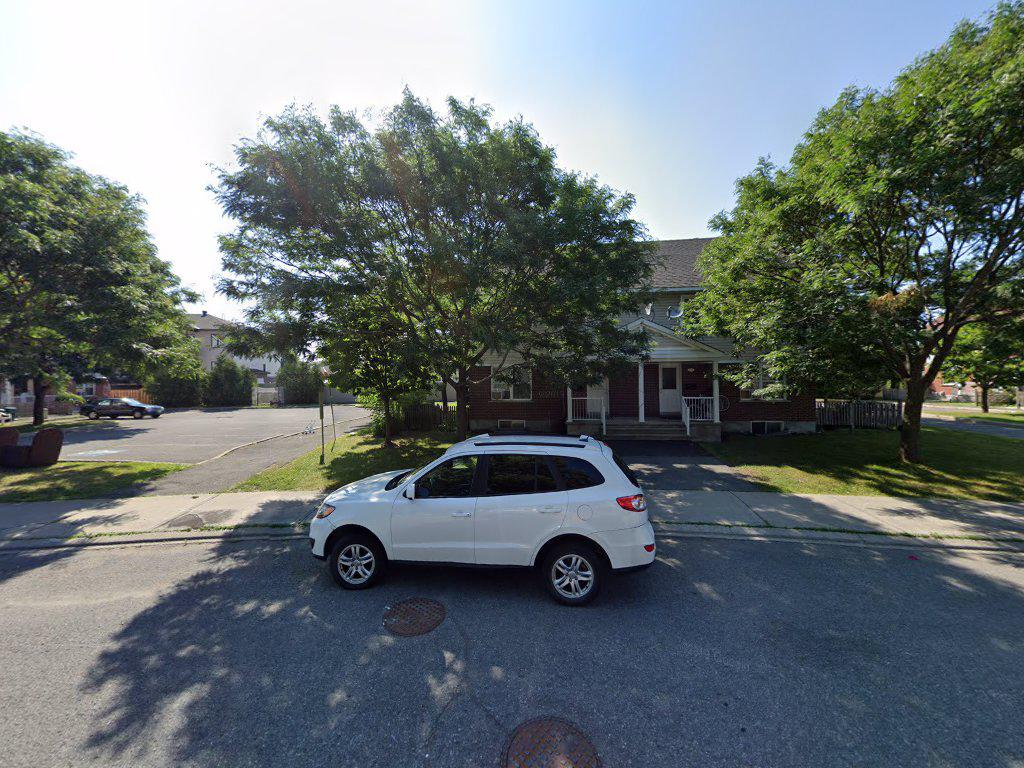trunk: (901, 367, 927, 468)
